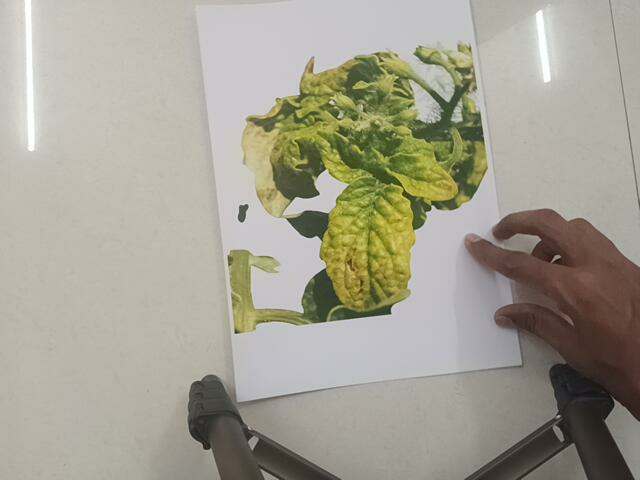Tomamto_Leaf_curl_virus: (228, 33, 468, 332)
